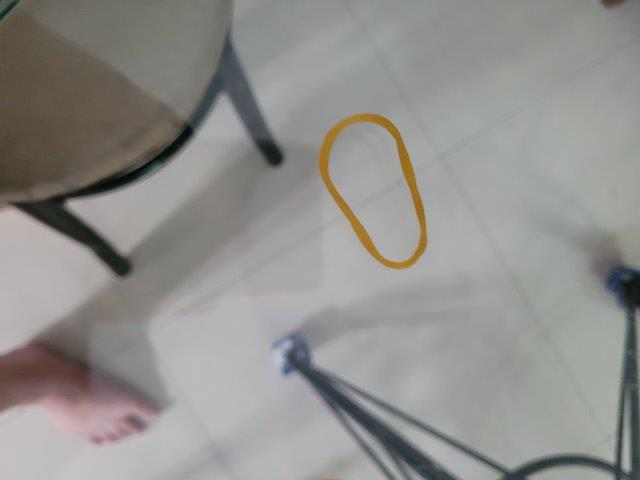karet: (319, 115, 428, 269)
